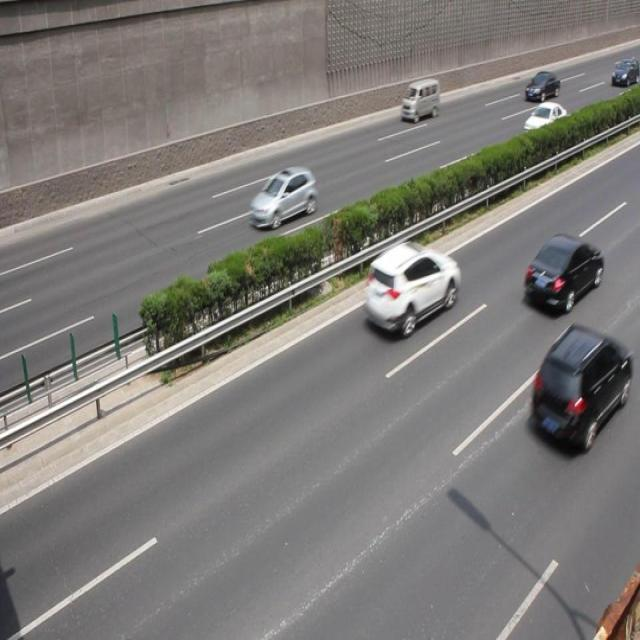car: (530, 321, 631, 452), (368, 242, 460, 341), (521, 230, 602, 316), (250, 167, 317, 230), (522, 101, 568, 143), (524, 70, 560, 102)
truck: (398, 81, 439, 117)
